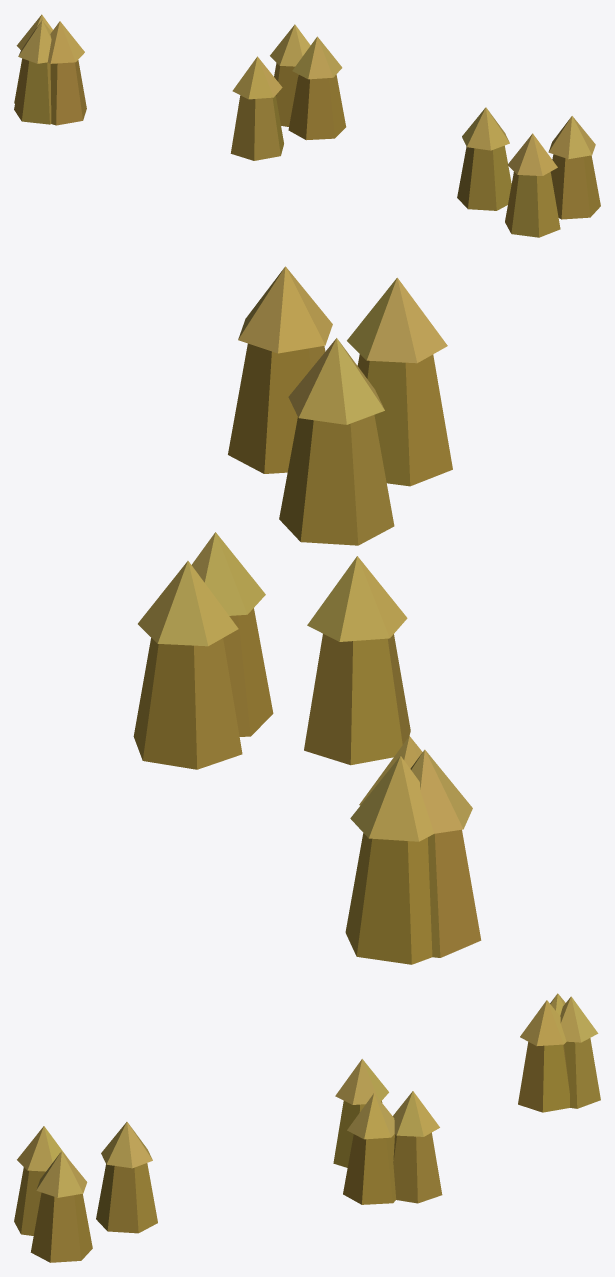
File: Wheat.glb
3 renders of one model, top to bottom at view 1: azimuth 30°, elevation 25°; view 2: azimuth 150°, elevation 25°; view 3: azimuth 270°, elevation 25°, orthographic. The views are drawn at different scales.
Parts seen in each view (by area): view 1: Wheat; view 2: Wheat; view 3: Wheat.
Part boxes in pixels (<box>): Wheat: <box>14,14,600,237</box>; Wheat: <box>133,266,481,964</box>; Wheat: <box>14,993,600,1262</box>.
Bounding box in the file's own units: 0.5506 × 0.14 × 0.747.
